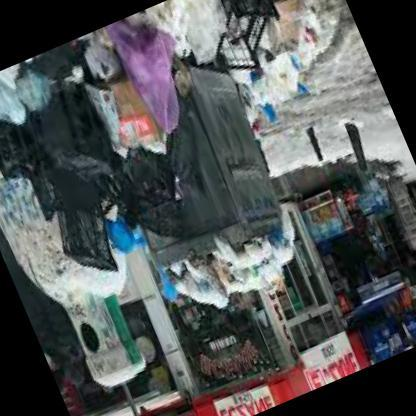Garbage: (0, 23, 201, 267), (194, 0, 348, 130), (110, 0, 250, 125), (157, 221, 304, 306), (176, 220, 306, 313), (0, 74, 54, 235)
